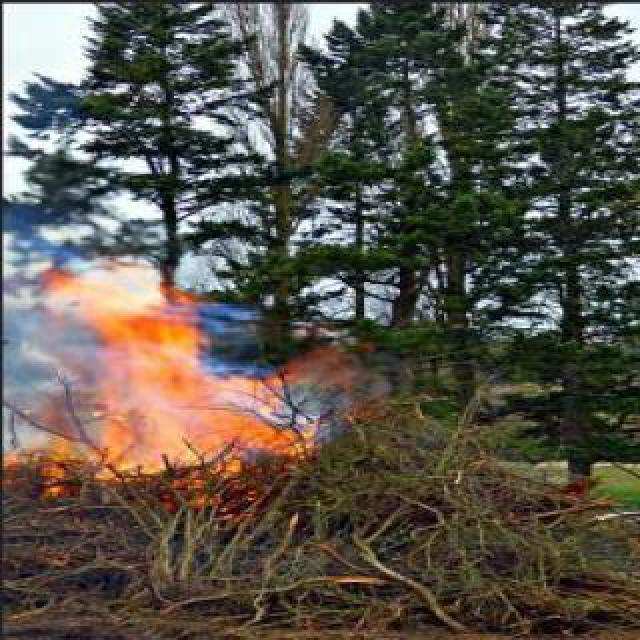Fire: (64, 262, 280, 484)
Smoke: (2, 212, 66, 448), (284, 350, 384, 432)
